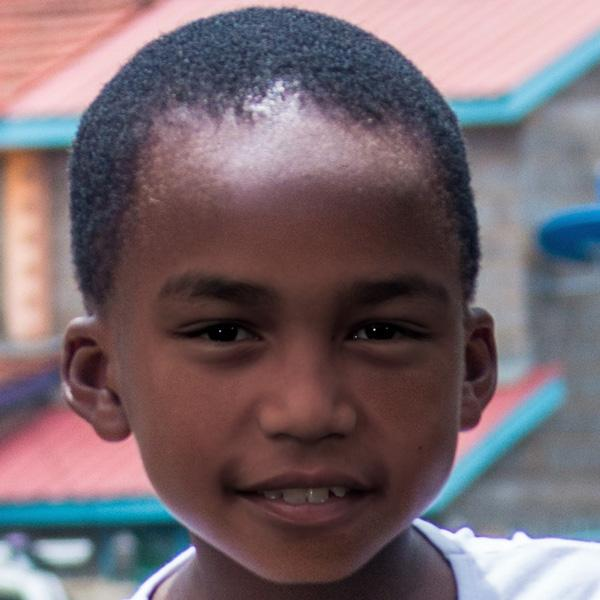Eyes: (160, 302, 273, 365), (331, 308, 440, 358)
